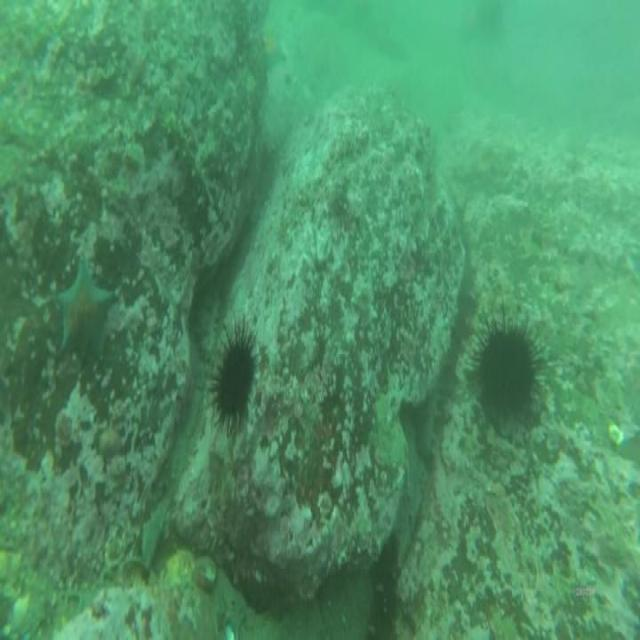echinus: (475, 326, 537, 417), (212, 335, 254, 422)
holothurian: (166, 110, 216, 208)
starfish: (60, 261, 112, 360), (265, 27, 284, 68)
